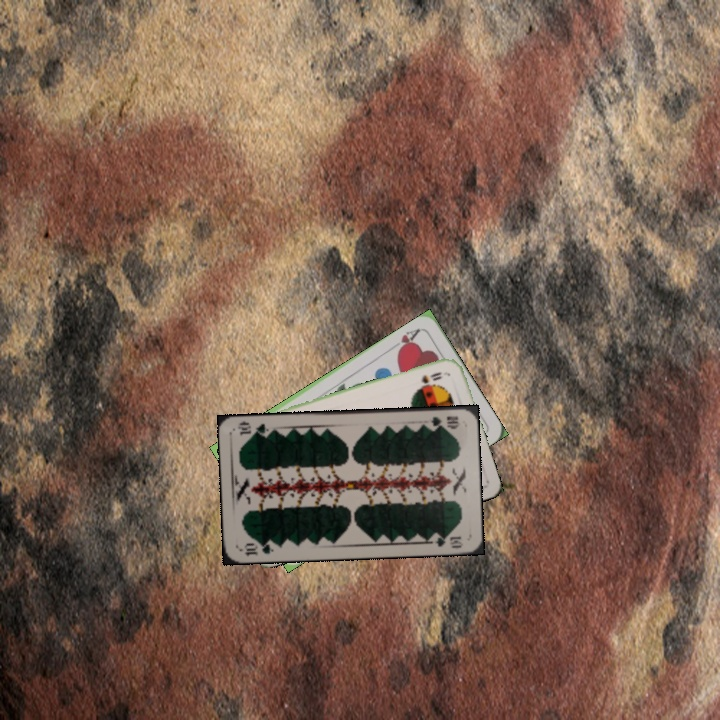G10: (238, 538, 276, 559), (427, 412, 462, 430)
HA: (387, 324, 423, 355)
SO: (417, 368, 444, 386)
